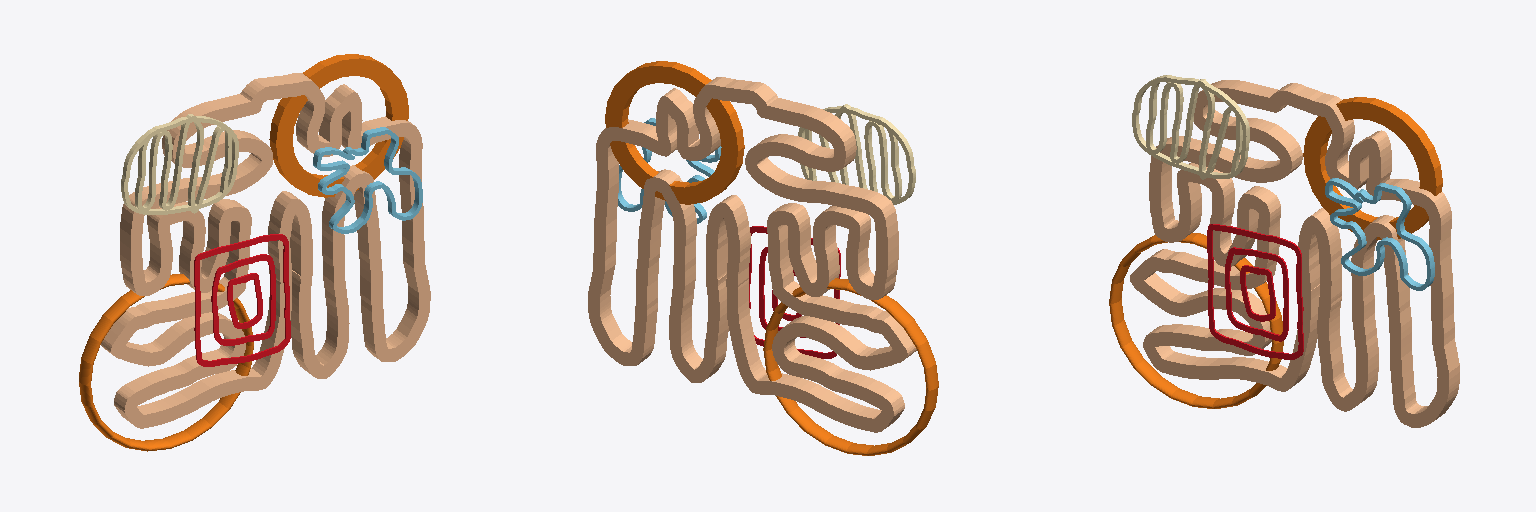
Rendered from tinker.obj.
The picture shows the model from 3 angles: view 1: azimuth 30°, elevation 25°; view 2: azimuth 150°, elevation 25°; view 3: azimuth 330°, elevation 25°; orthographic projection.
Visible parts, largest first — view 1: obj_0; view 2: obj_0; view 3: obj_0.
Boxes of the visible parts, <box> form: obj_0: <box>79,54,430,451</box>; obj_0: <box>588,61,938,455</box>; obj_0: <box>1109,75,1459,427</box>.
Size of the model in its own units: 183 by 176 by 15.